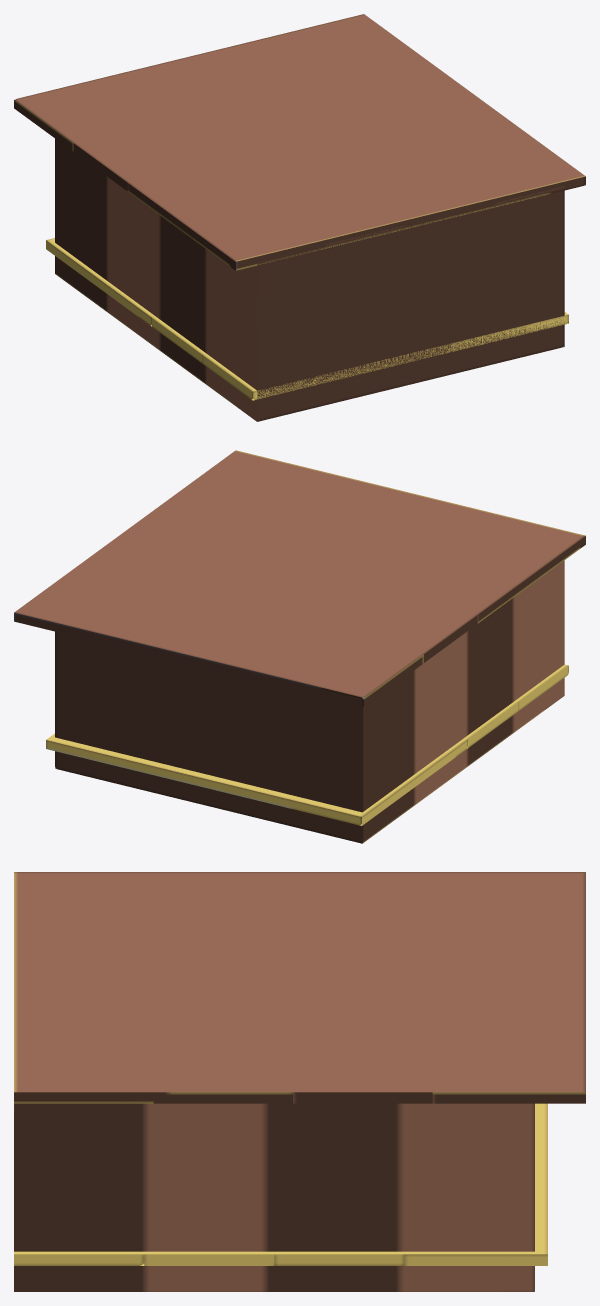
File: tableend.obj
3 renders of one model, top to bottom at view 1: azimuth 30°, elevation 25°; view 2: azimuth 150°, elevation 25°; view 3: azimuth 270°, elevation 25°, orthographic. The views are drawn at different scales.
Visible parts, largest first — view 1: cube; view 2: cube; view 3: cube.
Part boxes in pixels (bbox=[...]): cube: bbox=[14, 14, 585, 421]; cube: bbox=[14, 450, 585, 843]; cube: bbox=[14, 872, 585, 1291].
Bounding box in the file's own units: 4.1 × 1.85 × 4.5.
